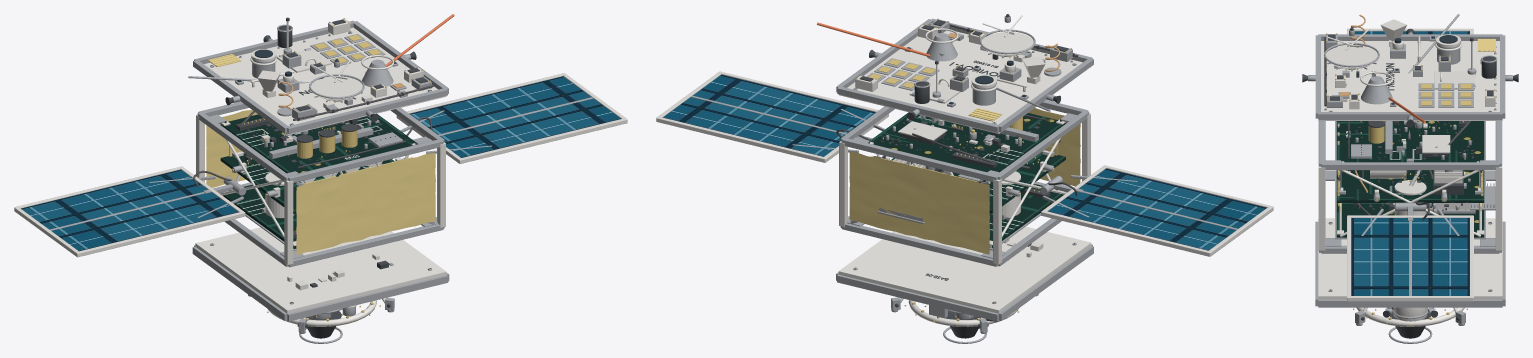
Rendered from satellite.mobile.glb.
The picture shows the model from 3 angles, left to right: view 1: azimuth 30°, elevation 25°; view 2: azimuth 150°, elevation 25°; view 3: azimuth 270°, elevation 25°; orthographic projection.
Parts seen in each view (by area): view 1: mod_1, mod_0, mod_5, mod_2, mod_3, mod_4; view 2: mod_1, mod_0, mod_5, mod_2, mod_3, mod_4; view 3: mod_1, mod_0, mod_5, mod_2, mod_3, mod_4.
Boxes of the visible parts, x1,y1,x2,y2 form: mod_1: (14,73,627,267); mod_0: (188,14,454,135); mod_5: (192,227,449,343); mod_2: (220,111,415,173); mod_3: (220,127,394,214); mod_4: (222,185,296,251); mod_1: (656,71,1273,266); mod_0: (817,14,1093,133); mod_5: (836,226,1093,343); mod_2: (870,112,1065,172); mod_3: (891,127,1065,213); mod_4: (989,183,1063,250); mod_1: (1318,28,1502,301); mod_0: (1302,14,1518,127); mod_5: (1315,218,1505,343); mod_2: (1335,121,1485,162); mod_3: (1336,121,1484,202); mod_4: (1335,174,1485,239).
Size of the model in its own units: 10.37 by 5.41 by 3.52.
Materials: 12 (2 with a texture image).
